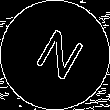N_SW: (25, 23, 85, 87)
